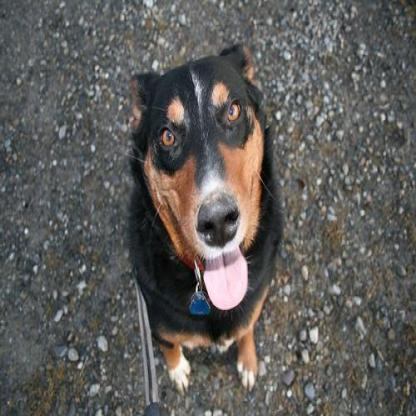Appenzeller: (126, 43, 282, 388)
